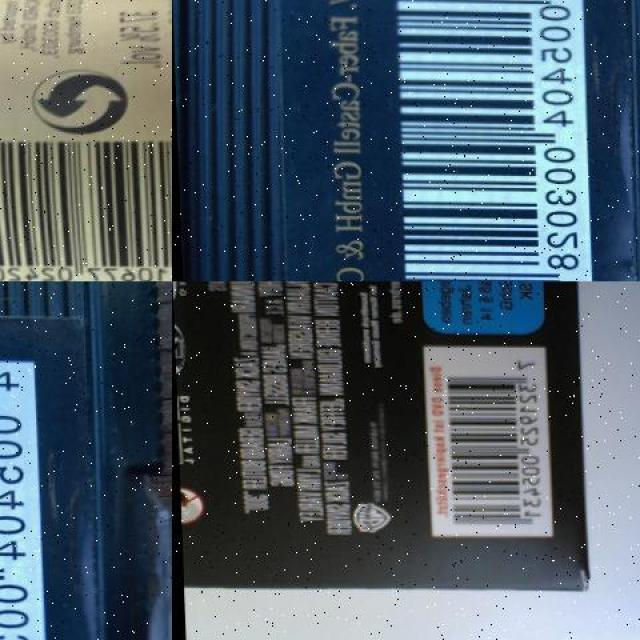Barcode: (385, 0, 593, 281), (0, 132, 172, 281), (419, 345, 548, 539), (0, 352, 57, 640)
